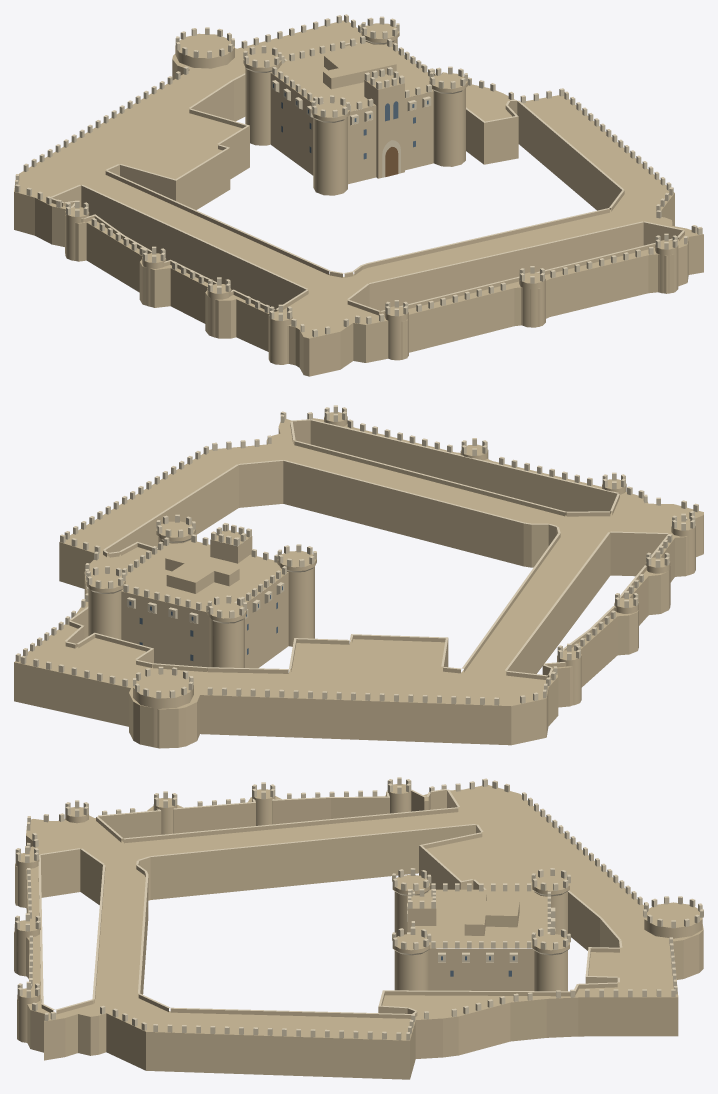
The model's file is alexandria-qaitbay-citadel.glb.
The picture shows the model from 3 angles, top to bottom: view 1: azimuth 30°, elevation 25°; view 2: azimuth 150°, elevation 25°; view 3: azimuth 270°, elevation 25°; orthographic projection. The views are drawn at different scales.
Visible parts, largest first — view 1: Citadel of Qaitbay; view 2: Citadel of Qaitbay; view 3: Citadel of Qaitbay.
Part boxes in pixels (bbox=[...]): Citadel of Qaitbay: bbox=[14, 14, 703, 376]; Citadel of Qaitbay: bbox=[14, 405, 703, 748]; Citadel of Qaitbay: bbox=[14, 777, 703, 1079].
Bounding box in the file's own units: 127 × 22.5 × 144.
